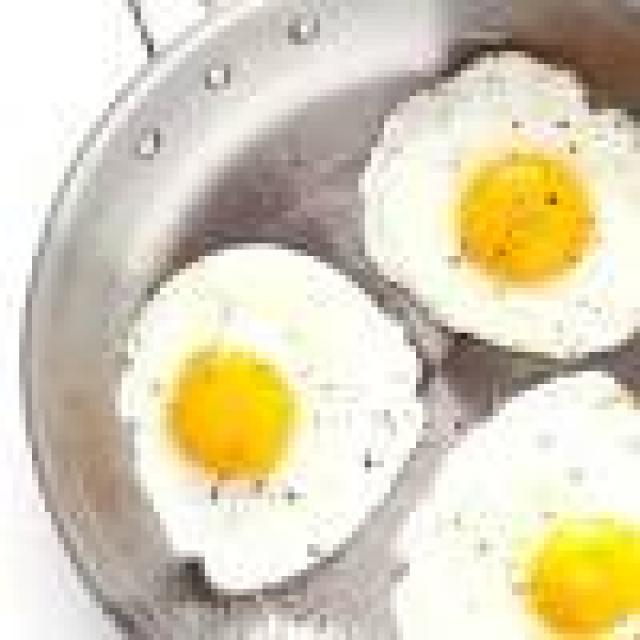Egg: (121, 245, 422, 591), (360, 51, 640, 357), (399, 375, 640, 639)
